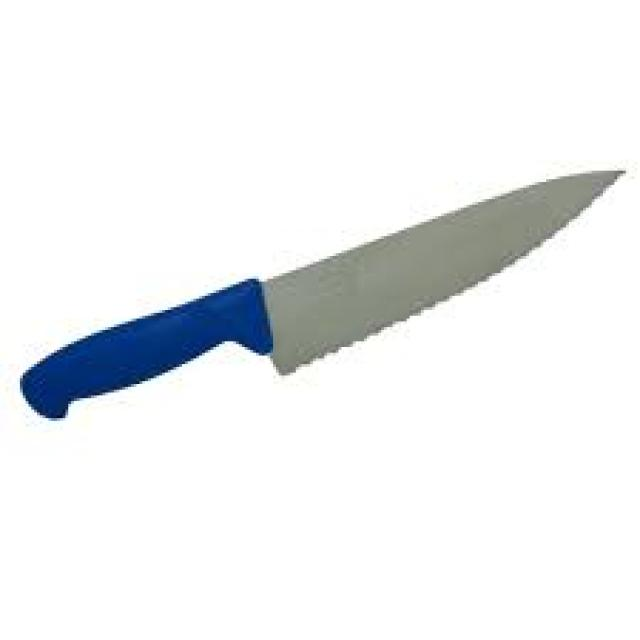knife: (7, 164, 628, 445)
